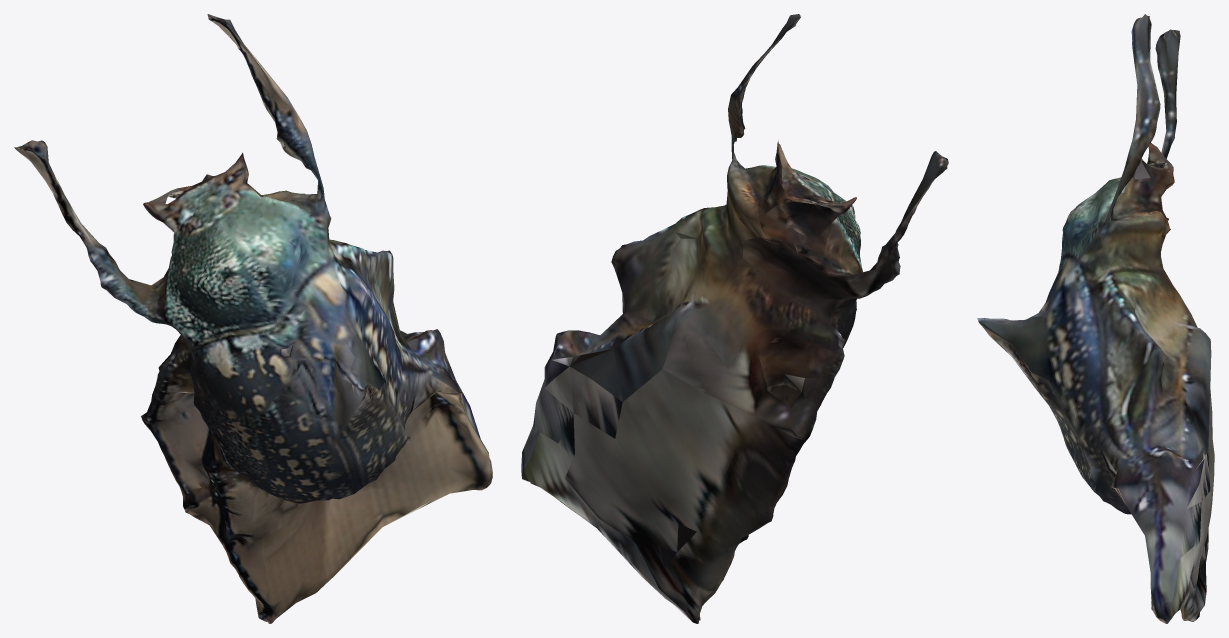
Rendered from tenaga2.obj.
The picture shows the model from 3 angles, left to right: view 1: azimuth 30°, elevation 25°; view 2: azimuth 150°, elevation 25°; view 3: azimuth 270°, elevation 25°; orthographic projection. The views are drawn at different scales.
Parts seen in each view (by area): view 1: Group_Global; view 2: Group_Global; view 3: Group_Global.
Boxes of the visible parts, x1,y1,x2,y2 form: Group_Global: (14,14,492,623); Group_Global: (521,14,948,623); Group_Global: (977,14,1214,623).
Size of the model in its own units: 1.4 by 1.87 by 0.7052.
3 materials, 3 textured.
